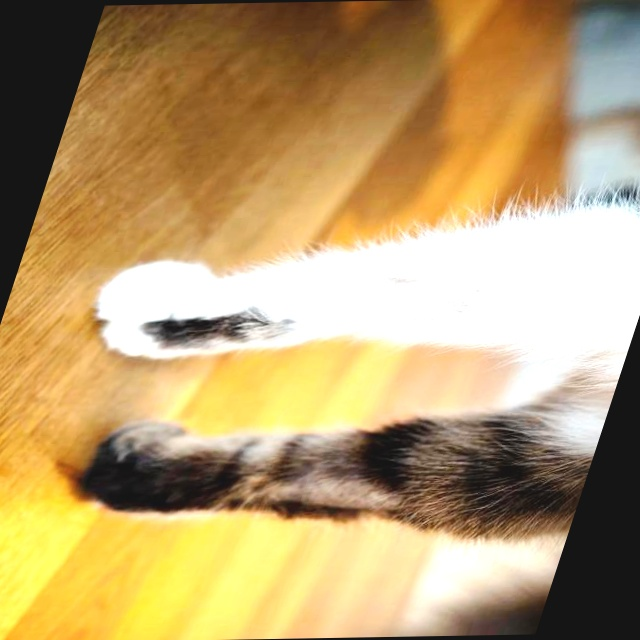hairloss: (275, 269, 506, 343)
